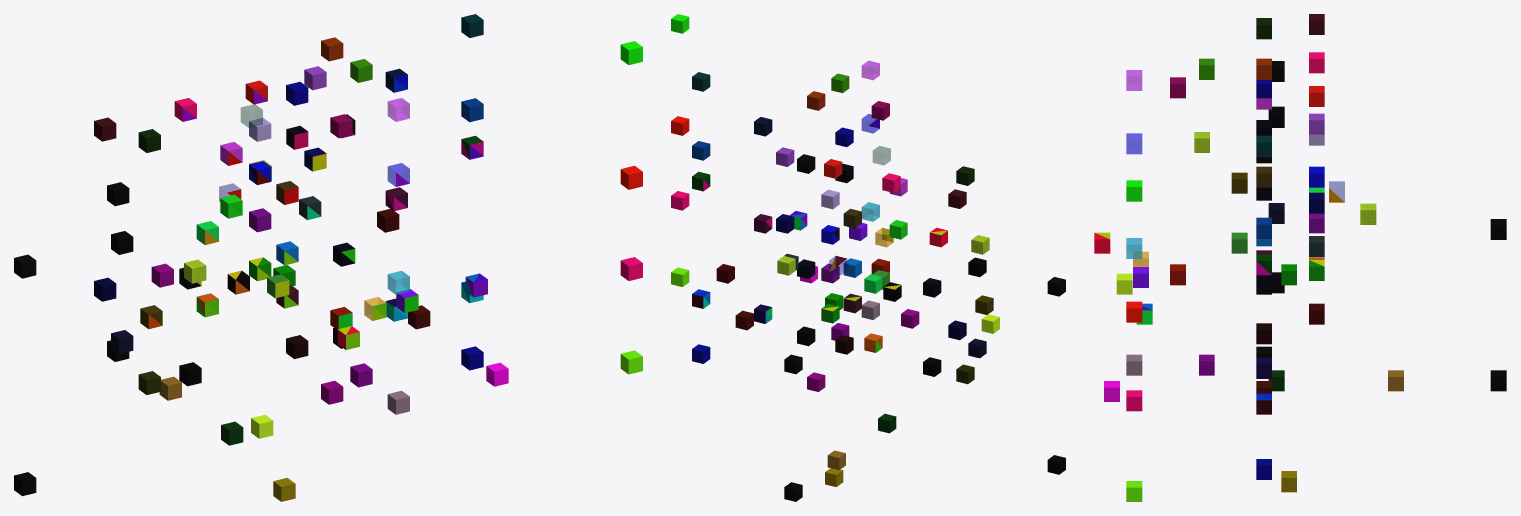
Rendered from testcubemodel11.obj.
The picture shows the model from 3 angles, left to right: view 1: azimuth 30°, elevation 25°; view 2: azimuth 150°, elevation 25°; view 3: azimuth 270°, elevation 25°; orthographic projection. The views are drawn at different scales.
Size of the model in its own units: 7737 by 6164 by 5198.
Materials: 752 (2 with a texture image).
